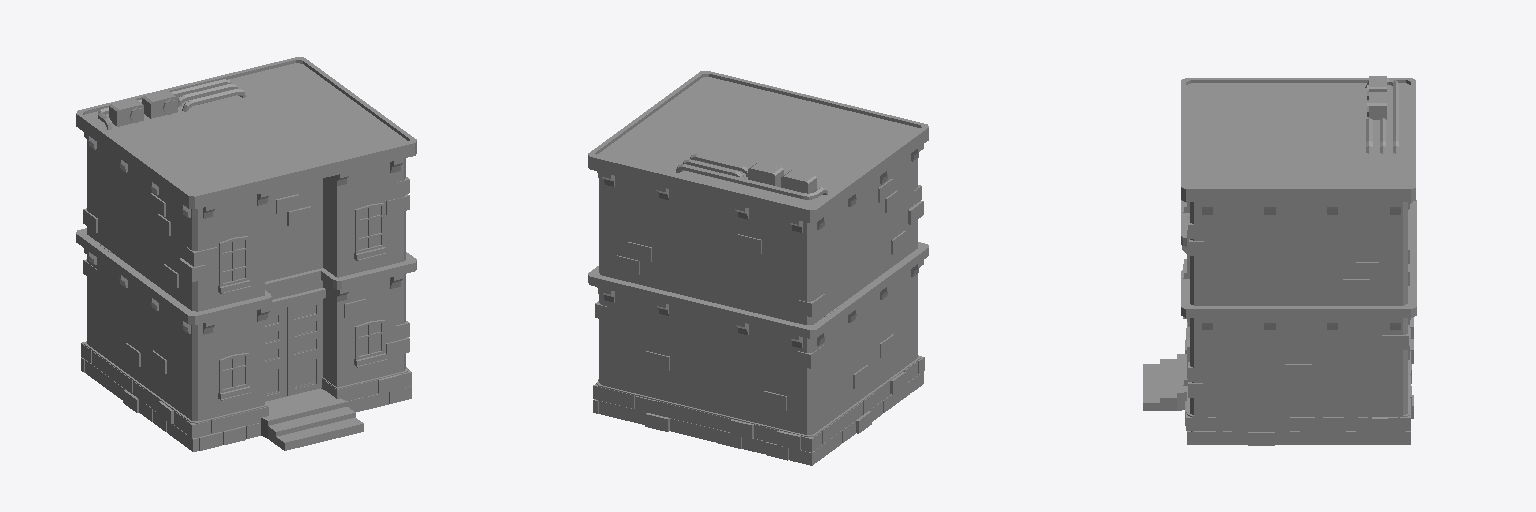
The model's file is 2Story_Center.obj.
The picture shows the model from 3 angles: view 1: azimuth 30°, elevation 25°; view 2: azimuth 150°, elevation 25°; view 3: azimuth 270°, elevation 25°; orthographic projection.
Parts seen in each view (by area): view 1: 2Story_Center_Cube.029; view 2: 2Story_Center_Cube.029; view 3: 2Story_Center_Cube.029.
Part boxes in pixels (x1,y1,x2,y2): 2Story_Center_Cube.029: (76,57,416,451); 2Story_Center_Cube.029: (588,71,928,465); 2Story_Center_Cube.029: (1143,76,1416,445).
Size of the model in its own units: 2.42 by 2.74 by 2.5.